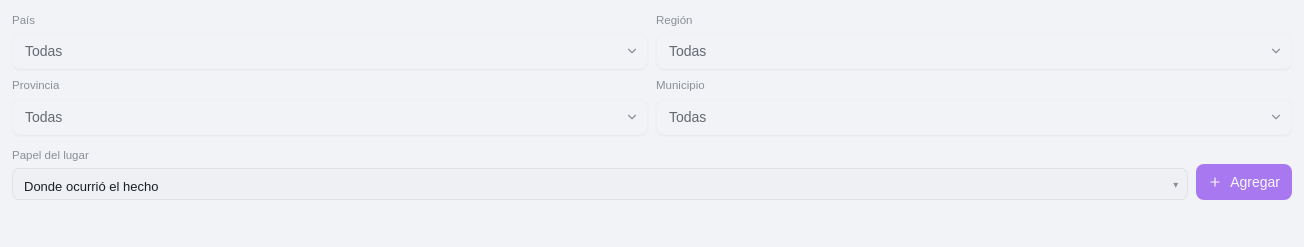
Test: LocalityPicker › elegir rellena los demás campos › elegir un municipio llena Provincia, Región y País
Step 1. Type "tamboril" into the dropdown labelled "Municipio" → coordinates (974, 116), box 656,98 -> 1292,134
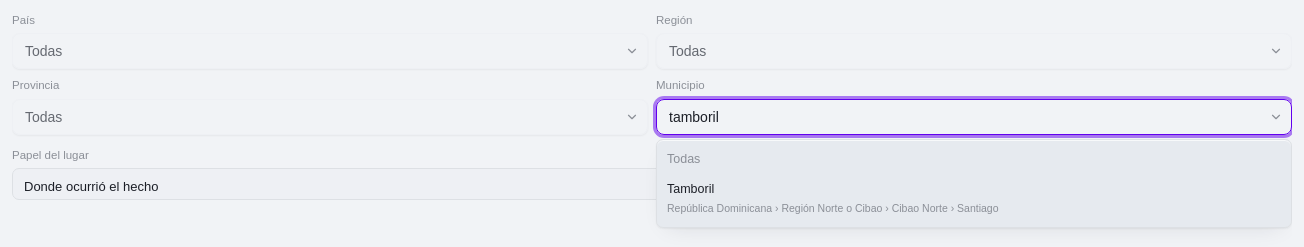
Step 2. Click the option that starts with "Tamboril" → coordinates (691, 189), box 657,174 -> 1291,223
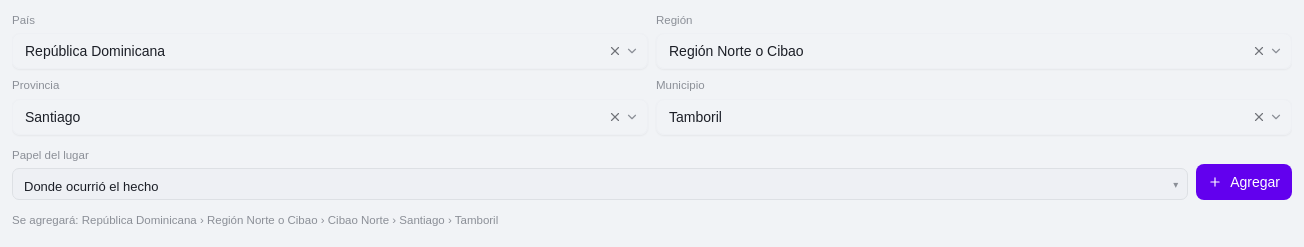
Expected: the dropdown labelled "Provincia" holds "Santiago", 12,98 -> 648,134
Expected: the dropdown labelled "Región" holds "Región Norte o Cibao", 656,33 -> 1292,69
Expected: the dropdown labelled "País" holds "República Dominicana", 12,33 -> 648,69
